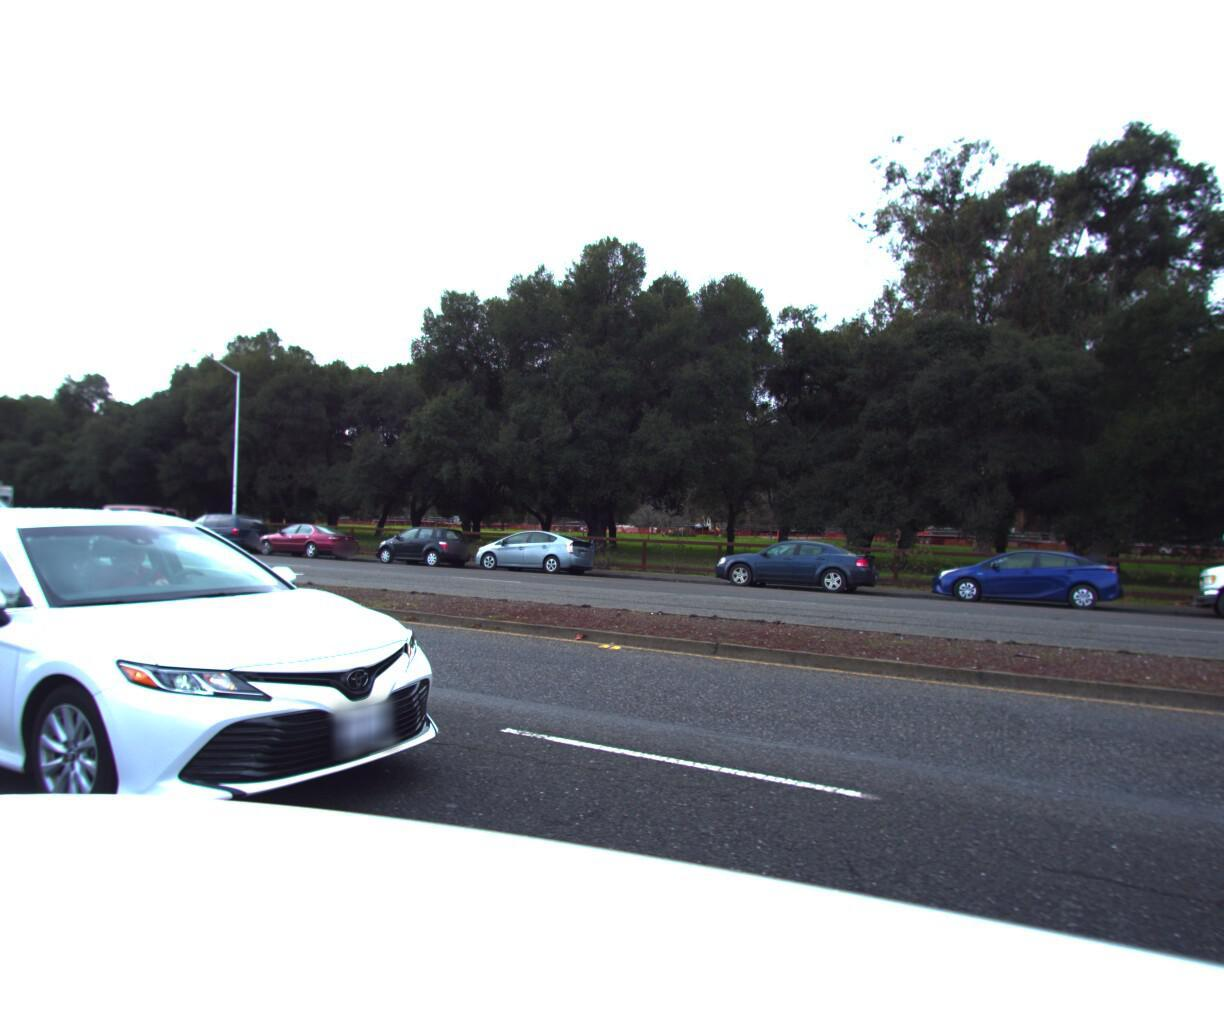car: (0, 496, 475, 874), (918, 548, 1126, 619), (700, 540, 883, 602), (461, 531, 608, 584), (79, 508, 189, 557), (244, 526, 363, 569), (363, 530, 474, 575), (0, 476, 36, 609), (163, 517, 274, 558), (2, 518, 84, 550)
other_vehicle: (1177, 472, 1224, 672), (0, 480, 21, 543)
